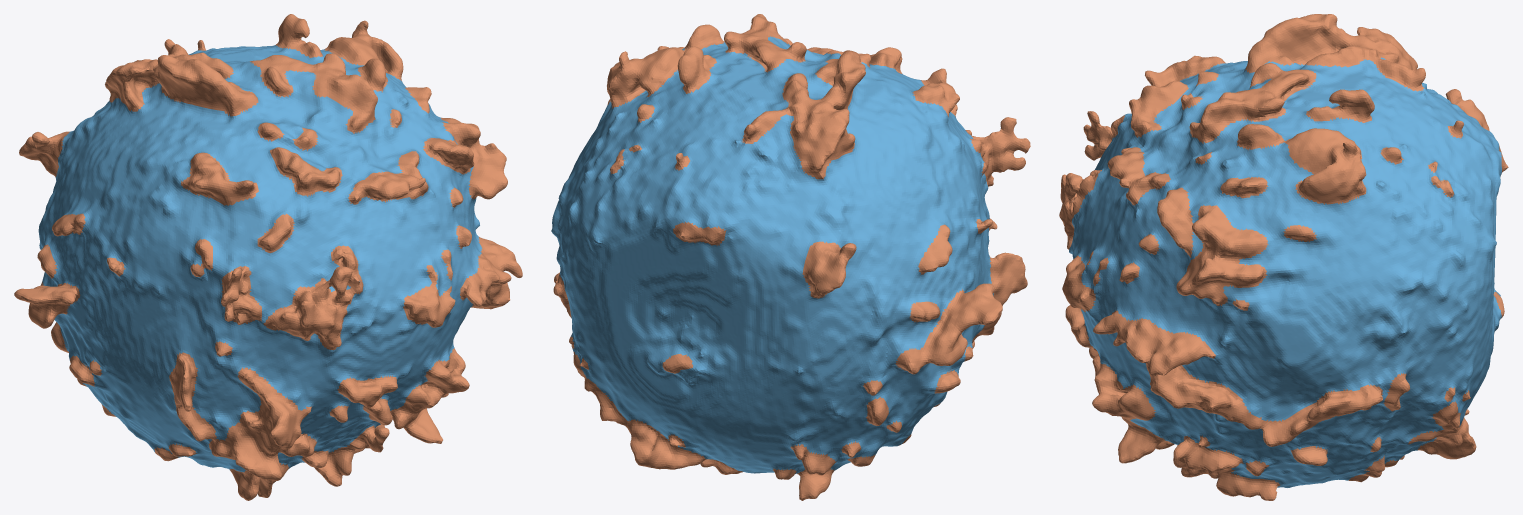
3 views of the same model, side by side, from view 1: azimuth 30°, elevation 25°; view 2: azimuth 150°, elevation 25°; view 3: azimuth 270°, elevation 25° (orthographic).
Bounding box in the file's own units: 166 × 156 × 149.
